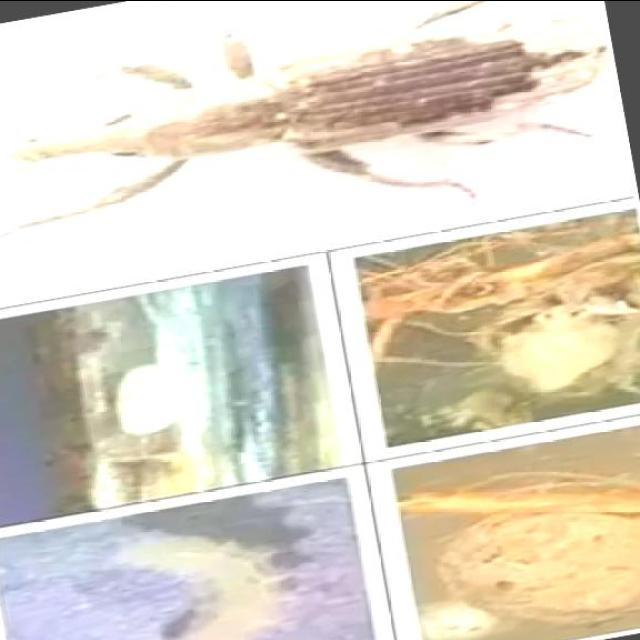ricebug: (16, 36, 604, 224), (117, 530, 292, 640), (499, 306, 620, 391), (416, 0, 489, 28)
